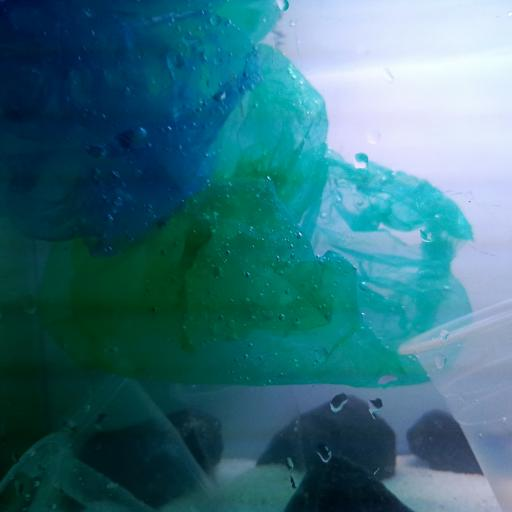plastic_bag: (19, 66, 474, 392), (3, 0, 289, 263)
plastic_cup: (18, 375, 230, 512), (395, 294, 512, 512), (171, 384, 308, 496), (0, 429, 161, 512)
